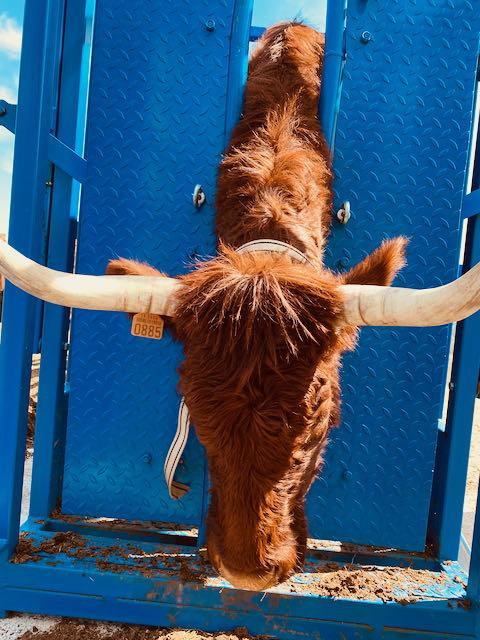muzzles: (201, 545, 290, 601)
